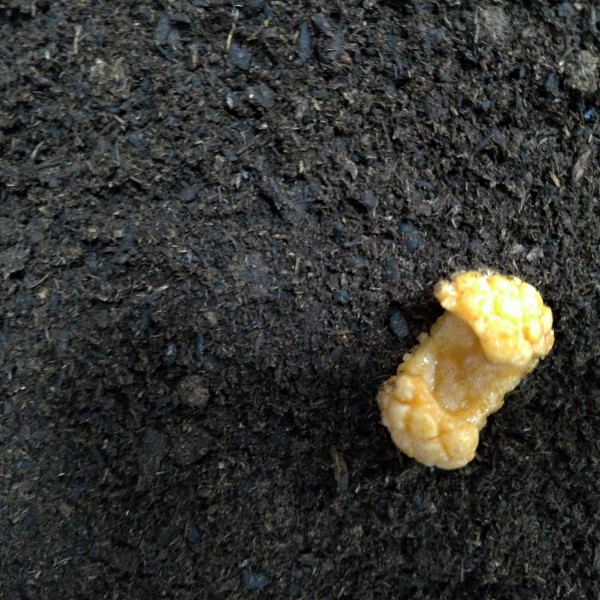eggs: (365, 263, 558, 478)
